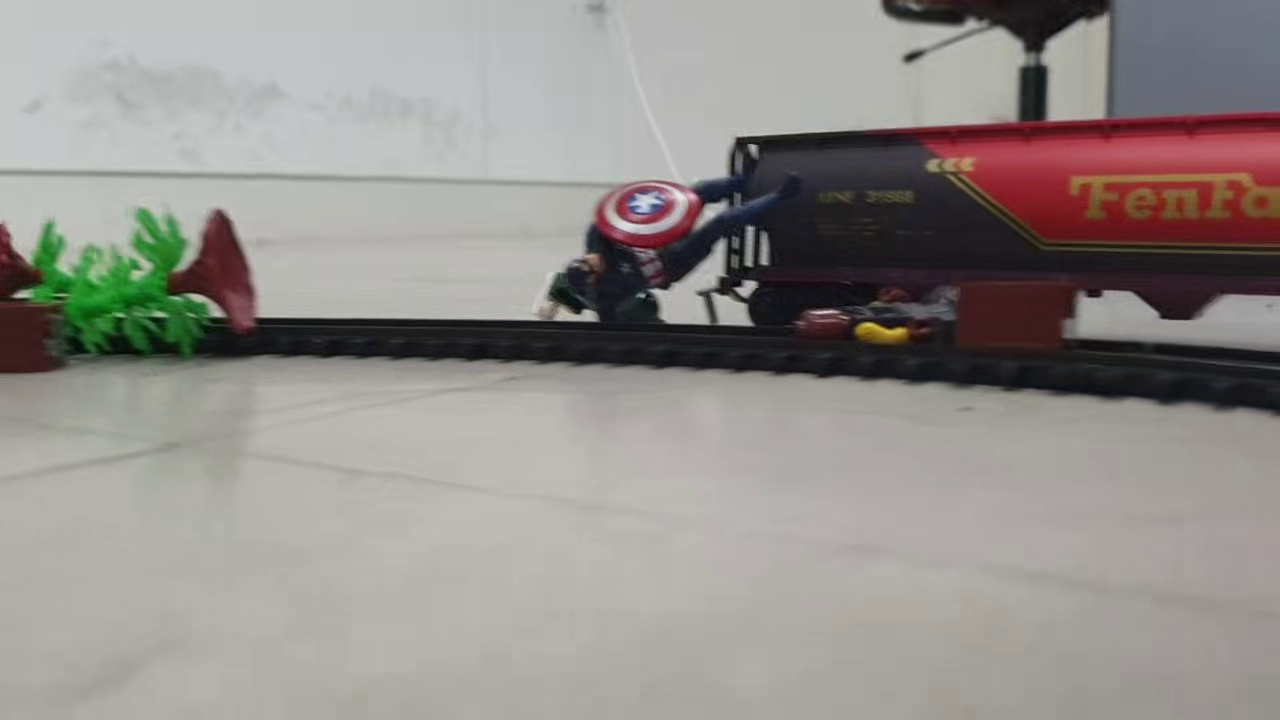box: (920, 279, 1069, 358), (1, 299, 76, 376)
people: (565, 139, 806, 300), (795, 285, 971, 350), (534, 266, 672, 329)
tree: (24, 201, 263, 361), (1, 220, 215, 318)
